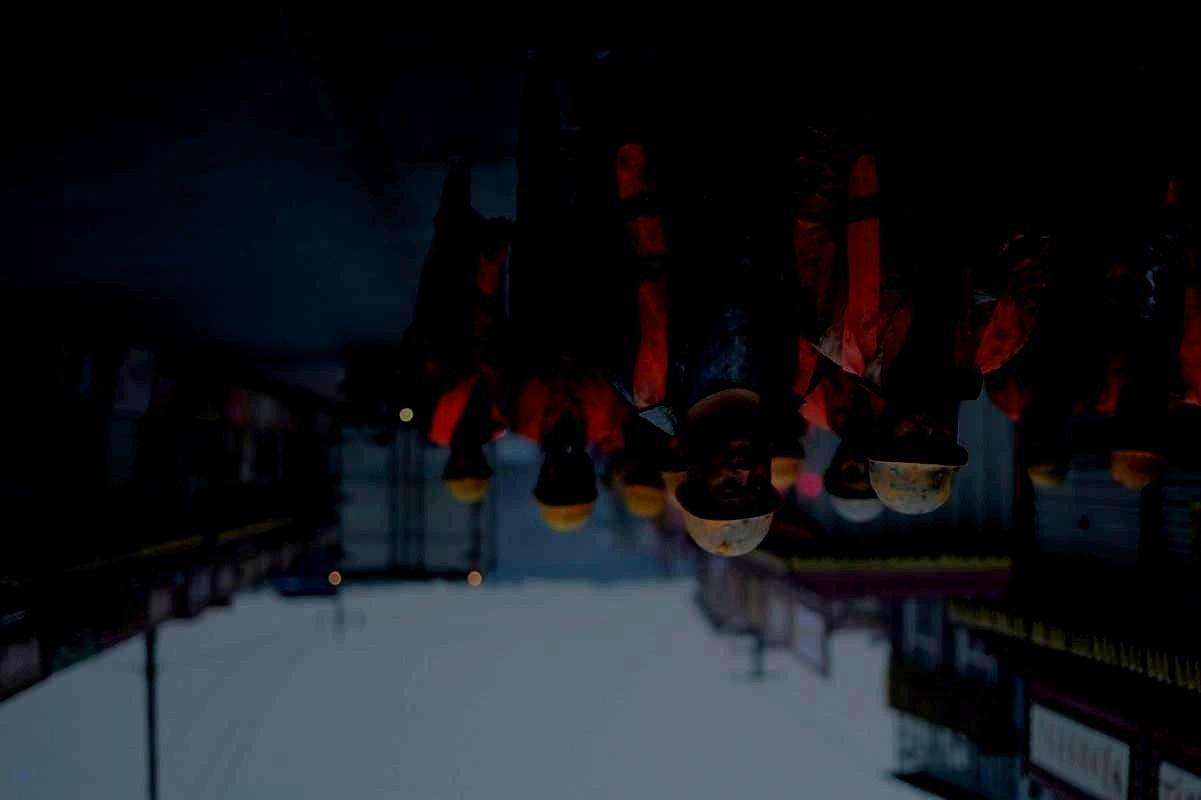helmet: (674, 428, 779, 557), (866, 387, 968, 515), (531, 448, 600, 533), (823, 439, 885, 522), (617, 447, 670, 518), (441, 444, 495, 505), (1110, 422, 1157, 490), (659, 436, 688, 512), (770, 429, 806, 487), (1027, 441, 1068, 489)
